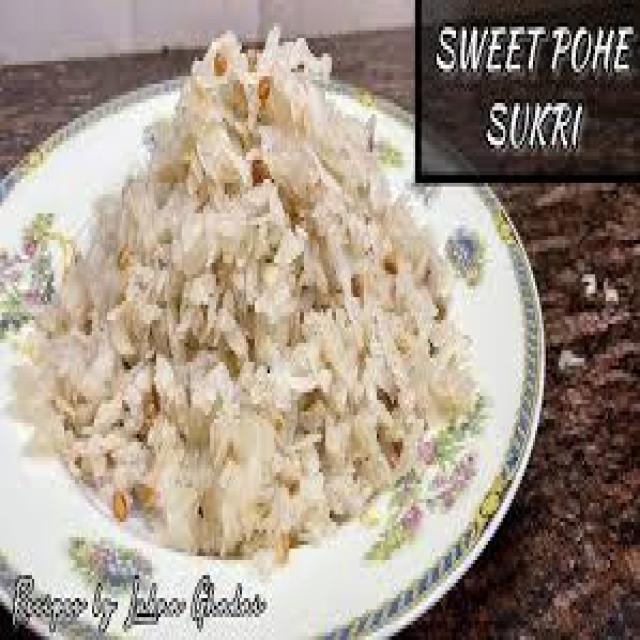POHA: (24, 24, 474, 542)
